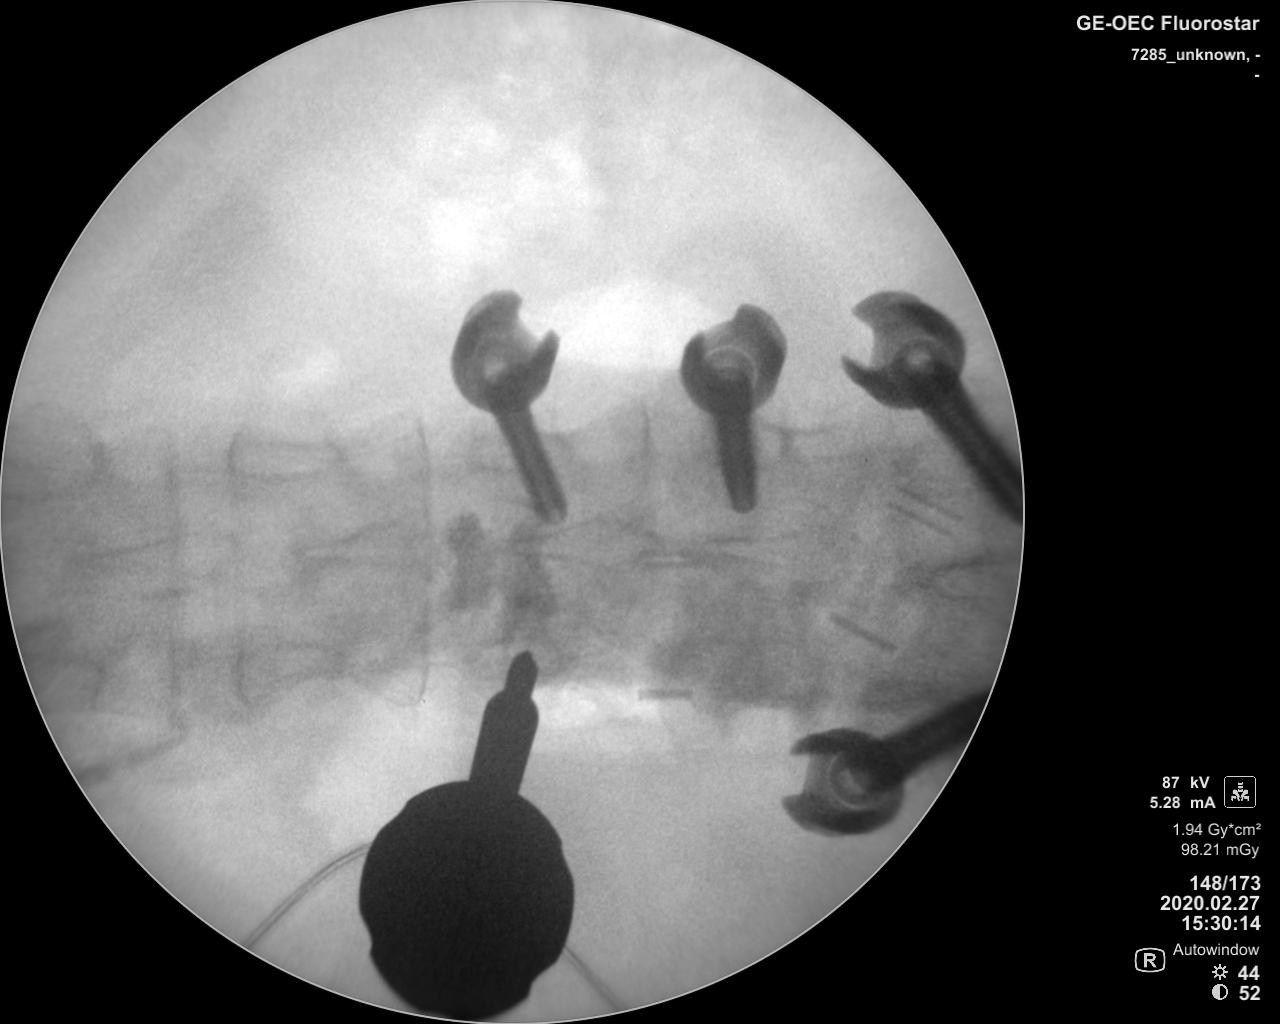eyes: (6, 427, 104, 507), (228, 434, 343, 483), (233, 643, 344, 691), (31, 653, 108, 711)
line: (220, 427, 254, 712), (159, 429, 189, 732), (411, 408, 435, 707)
nose: (82, 526, 237, 585), (281, 516, 426, 571), (502, 519, 667, 566)
